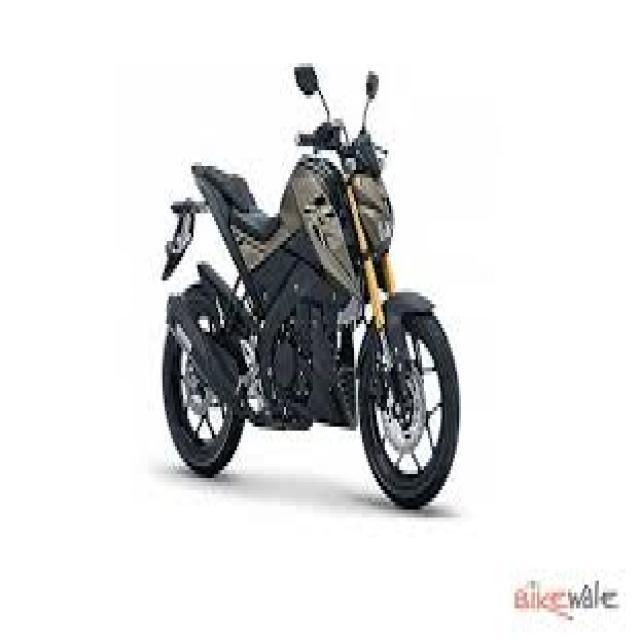MOTORCYCLE: (160, 76, 461, 510)
